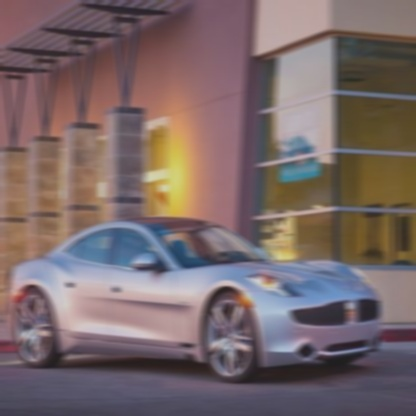Vehicle: (5, 214, 386, 386)
